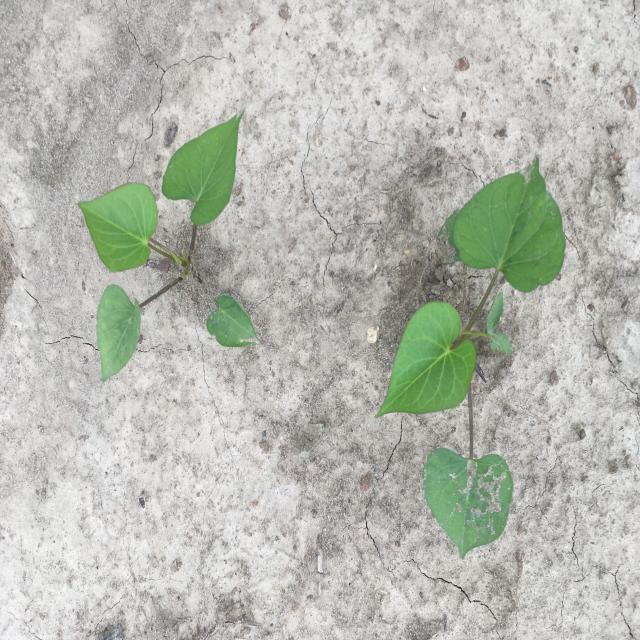MorningGlory: (375, 156, 566, 560), (79, 106, 259, 384)
